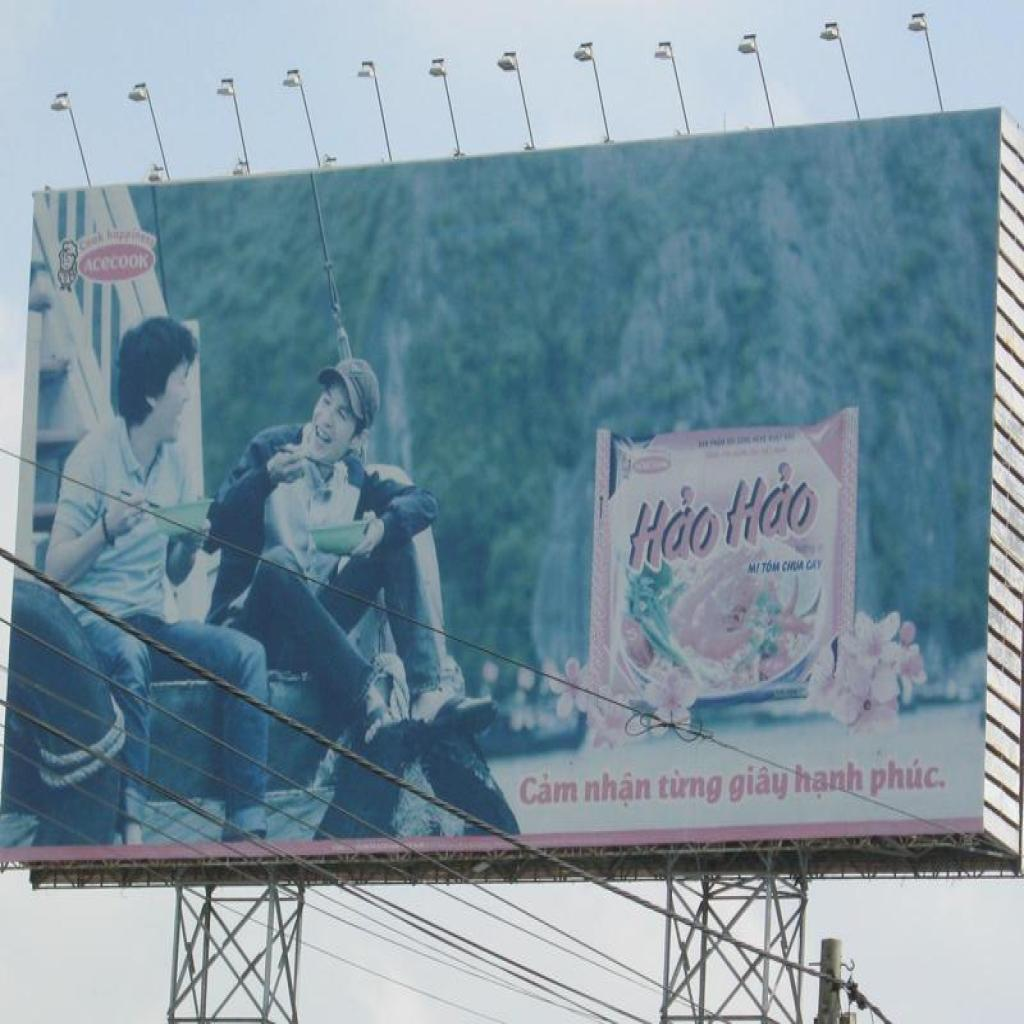text: (720, 452, 830, 553), (622, 474, 726, 580), (869, 756, 950, 802), (794, 758, 865, 806), (582, 768, 654, 812), (655, 766, 726, 809), (727, 763, 792, 805), (518, 770, 580, 810), (82, 251, 151, 275), (780, 556, 805, 577), (760, 558, 782, 577), (805, 556, 826, 574), (746, 560, 762, 577)
